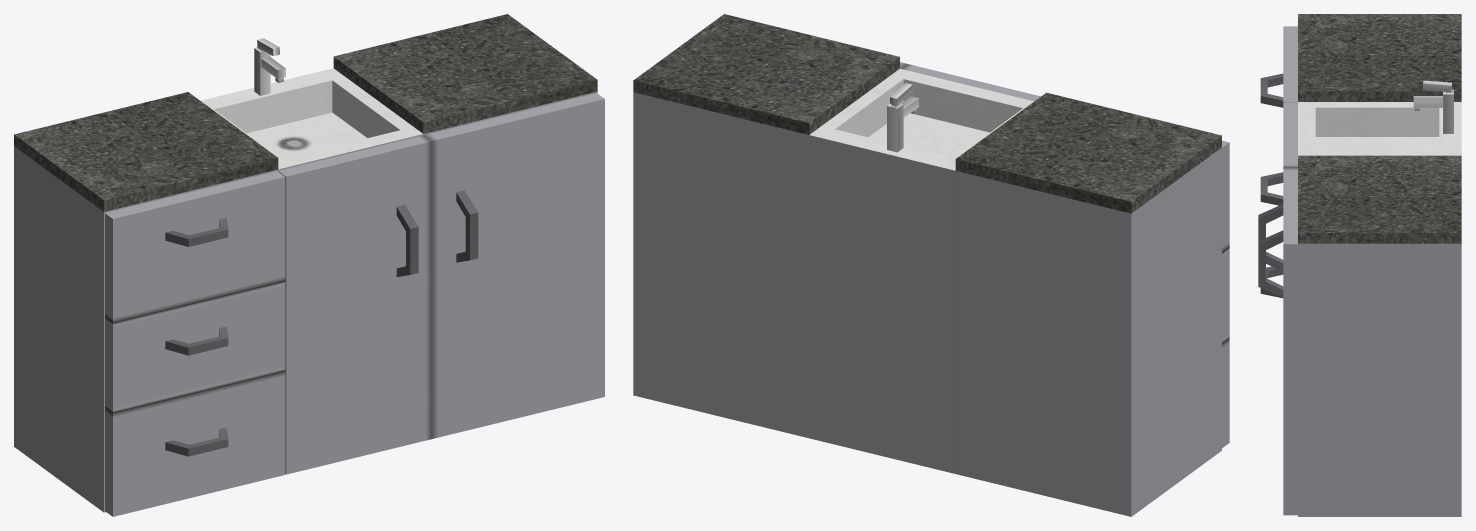
The model's file is Bath_Wash_basin_2A.fbx.
The picture shows the model from 3 angles, left to right: view 1: azimuth 30°, elevation 25°; view 2: azimuth 150°, elevation 25°; view 3: azimuth 270°, elevation 25°; orthographic projection. The views are drawn at different scales.
Visible parts, largest first — view 1: polySurface1576; view 2: polySurface1576; view 3: polySurface1576.
Boxes of the visible parts, bbox=[...] form: polySurface1576: bbox=[14, 14, 604, 516]; polySurface1576: bbox=[633, 14, 1229, 516]; polySurface1576: bbox=[1258, 14, 1461, 516].
Size of the model in its own units: 2.21 by 1.52 by 0.8661.
